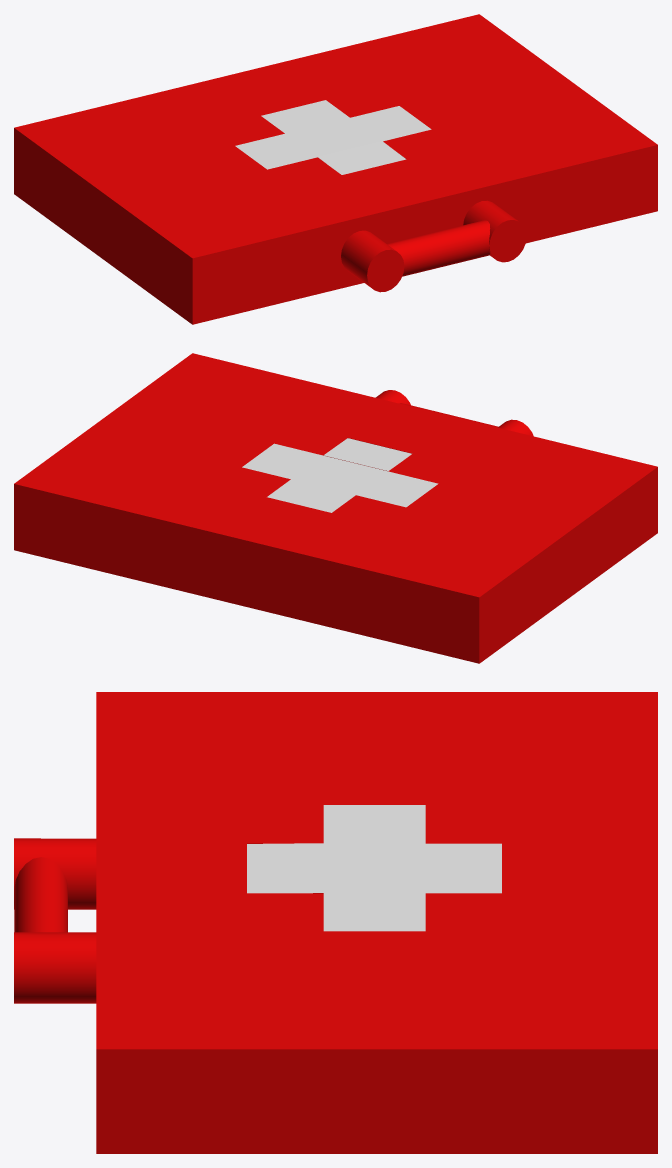
Rendered from Health_Kit.fbx.
The picture shows the model from 3 angles, top to bottom: view 1: azimuth 30°, elevation 25°; view 2: azimuth 150°, elevation 25°; view 3: azimuth 270°, elevation 25°; orthographic projection. The views are drawn at different scales.
Parts seen in each view (by area): view 1: pCube1, pCylinder1, pCylinder3, pCylinder2; view 2: pCube1; view 3: pCube1, pCylinder2, pCylinder1, pCylinder3.
Boxes of the visible parts, x1=… form: pCube1: x1=14, y1=14, x2=657, y2=324; pCylinder1: x1=387, y1=220, x2=490, y2=276; pCylinder3: x1=341, y1=230, x2=404, y2=292; pCylinder2: x1=463, y1=200, x2=526, y2=262; pCube1: x1=14, y1=353, x2=657, y2=663; pCube1: x1=96, y1=692, x2=657, y2=1153; pCylinder2: x1=14, y1=932, x2=96, y2=1003; pCylinder1: x1=14, y1=857, x2=67, y2=932; pCylinder3: x1=14, y1=838, x2=96, y2=909.
Size of the model in its own units: 3.65 by 0.4997 by 2.78.
